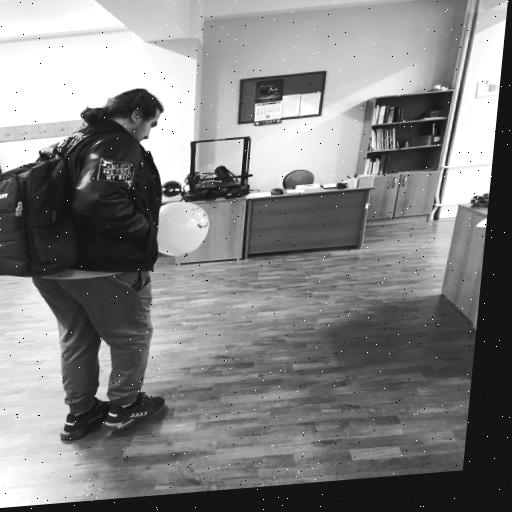balloon: (146, 197, 213, 262)
